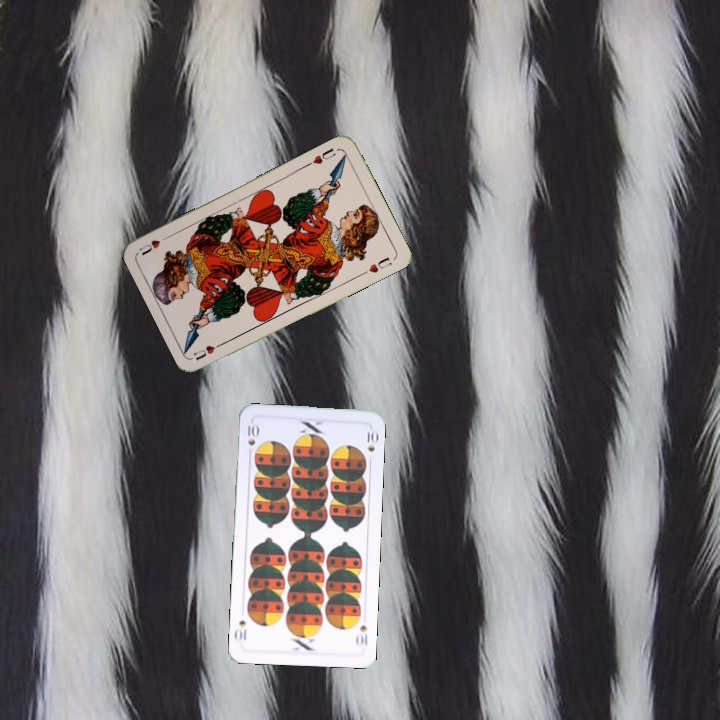HU: (190, 338, 228, 363), (303, 144, 338, 169)
S10: (244, 418, 260, 459), (352, 621, 370, 648)
